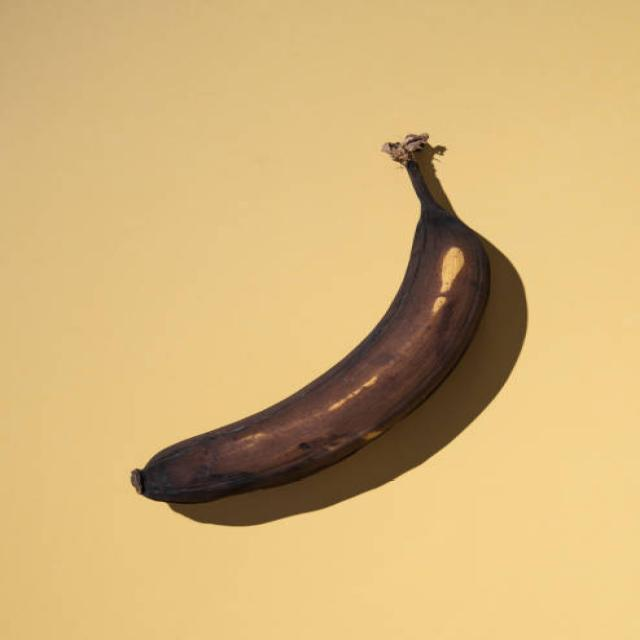Rotten: (128, 134, 494, 506)
